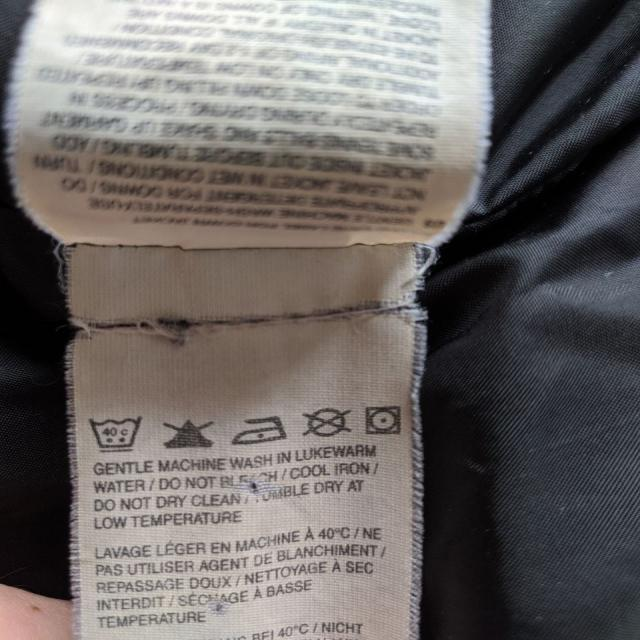40C: (89, 408, 147, 456)
DN_bleach: (165, 415, 215, 452)
DN_dry_clean: (304, 405, 352, 441)
iron_low: (234, 412, 288, 446)
tumble_dry_low: (361, 403, 404, 438)
